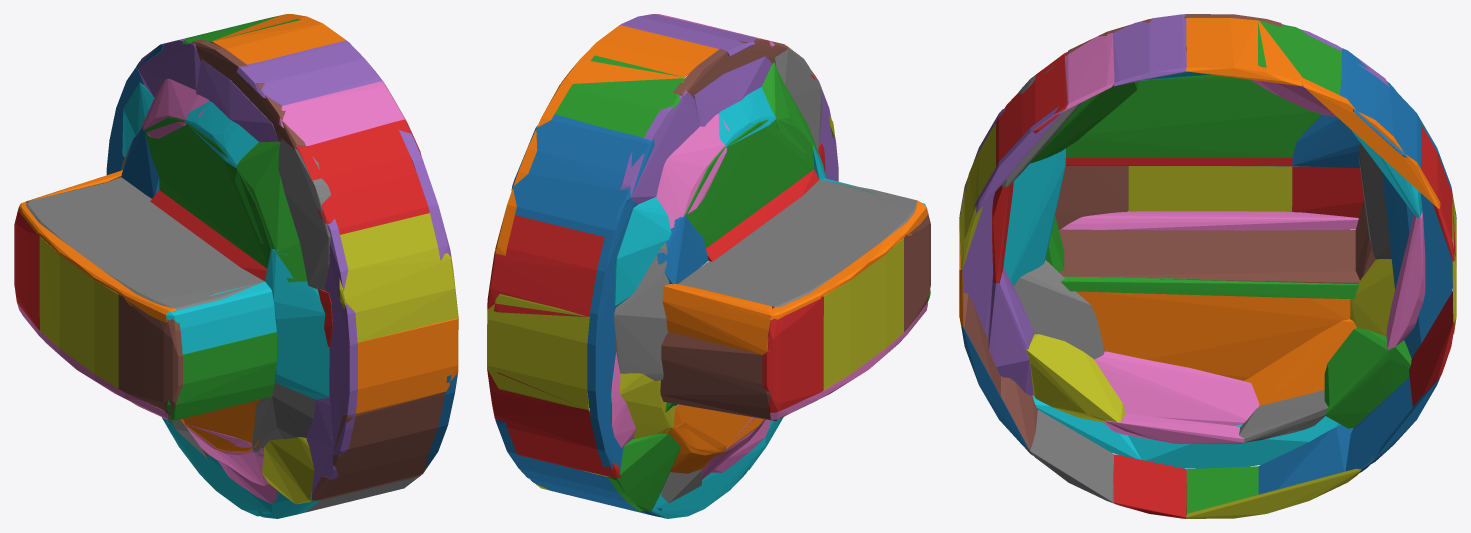
File: Oven_Wheel_05_cvx.obj
The picture shows the model from 3 angles, left to right: view 1: azimuth 30°, elevation 25°; view 2: azimuth 150°, elevation 25°; view 3: azimuth 270°, elevation 25°; orthographic projection. The views are drawn at different scales.
Visible parts, largest first — view 1: scenes/apartment_0000_coacd/output/Unknown/Kitchen_Oven/Oven_Whe; view 2: scenes/apartment_0000_coacd/output/Unknown/Kitchen_Oven/Oven_Whe; view 3: scenes/apartment_0000_coacd/output/Unknown/Kitchen_Oven/Oven_Whe.
Boxes of the visible parts, x1,y1,x2,y2 form: scenes/apartment_0000_coacd/output/Unknown/Kitchen_Oven/Oven_Whe: (14, 14, 458, 518); scenes/apartment_0000_coacd/output/Unknown/Kitchen_Oven/Oven_Whe: (487, 14, 930, 518); scenes/apartment_0000_coacd/output/Unknown/Kitchen_Oven/Oven_Whe: (959, 14, 1456, 518).
Bounding box in the file's own units: 0.0475 × 0.0766 × 0.0765.
